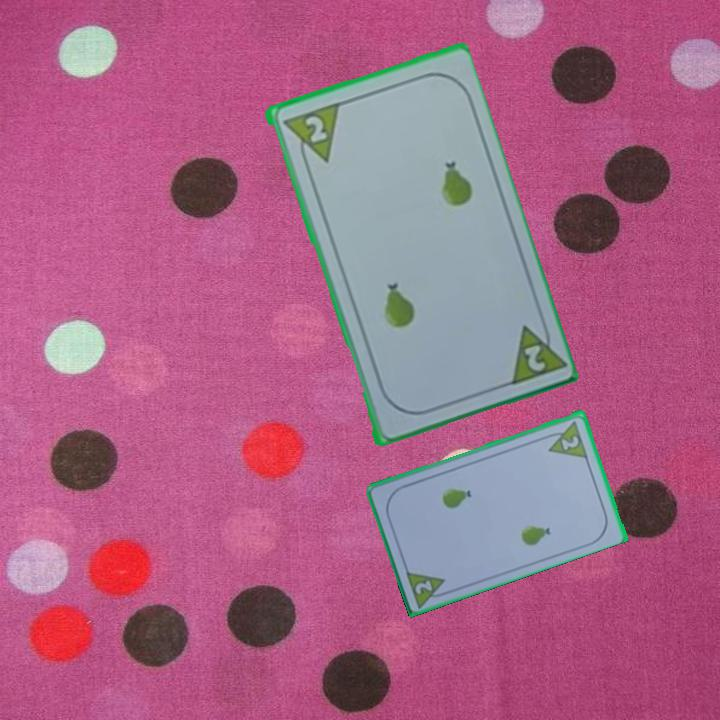2p: (541, 417, 590, 460), (300, 111, 330, 146), (519, 340, 548, 375), (411, 576, 436, 597)
